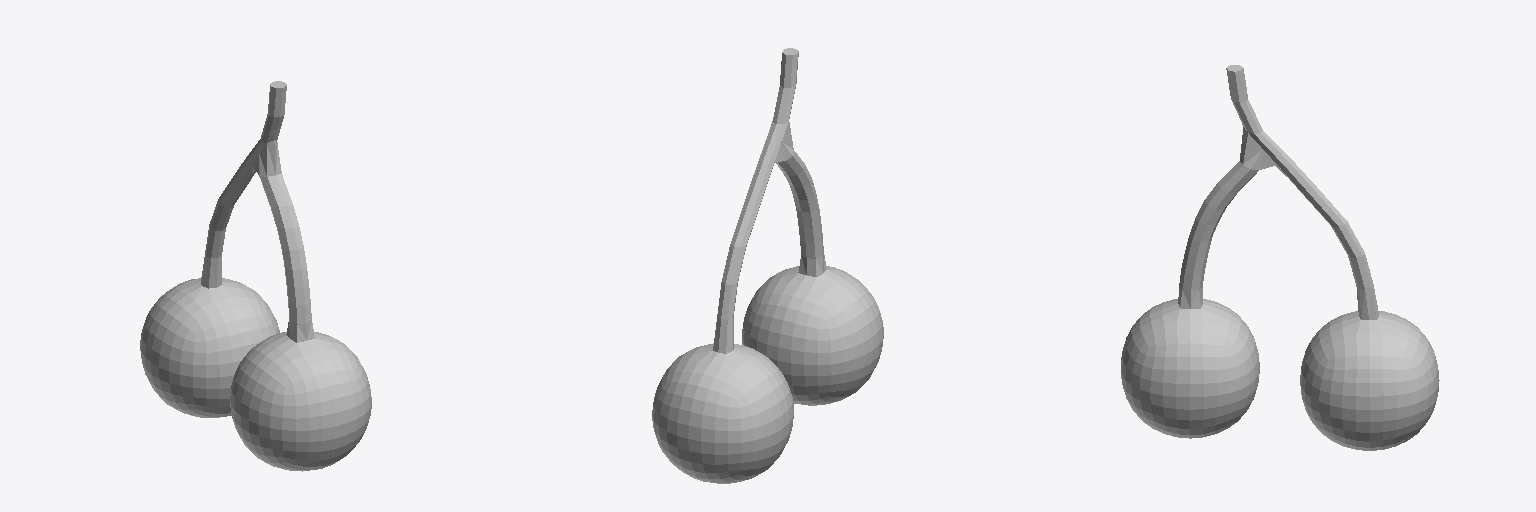
Rendered from CherryObj.obj.
3 views of the same model, side by side, from view 1: azimuth 30°, elevation 25°; view 2: azimuth 150°, elevation 25°; view 3: azimuth 270°, elevation 25° (orthographic).
Visible parts, largest first — view 1: polySurface3; view 2: polySurface3; view 3: polySurface3.
Boxes of the visible parts, <box> form: polySurface3: <box>140,81,371,471</box>; polySurface3: <box>652,48,883,483</box>; polySurface3: <box>1121,65,1439,450</box>.
Size of the model in its own units: 4.43 by 13.16 by 10.14.